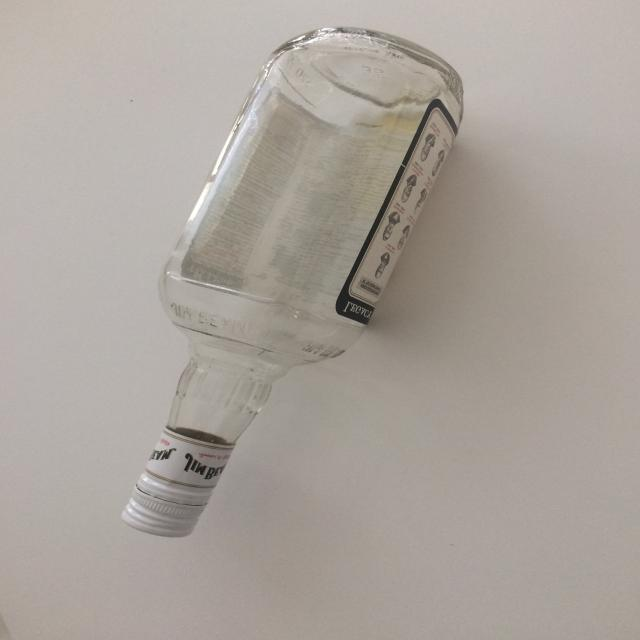glass: (120, 25, 466, 538)
